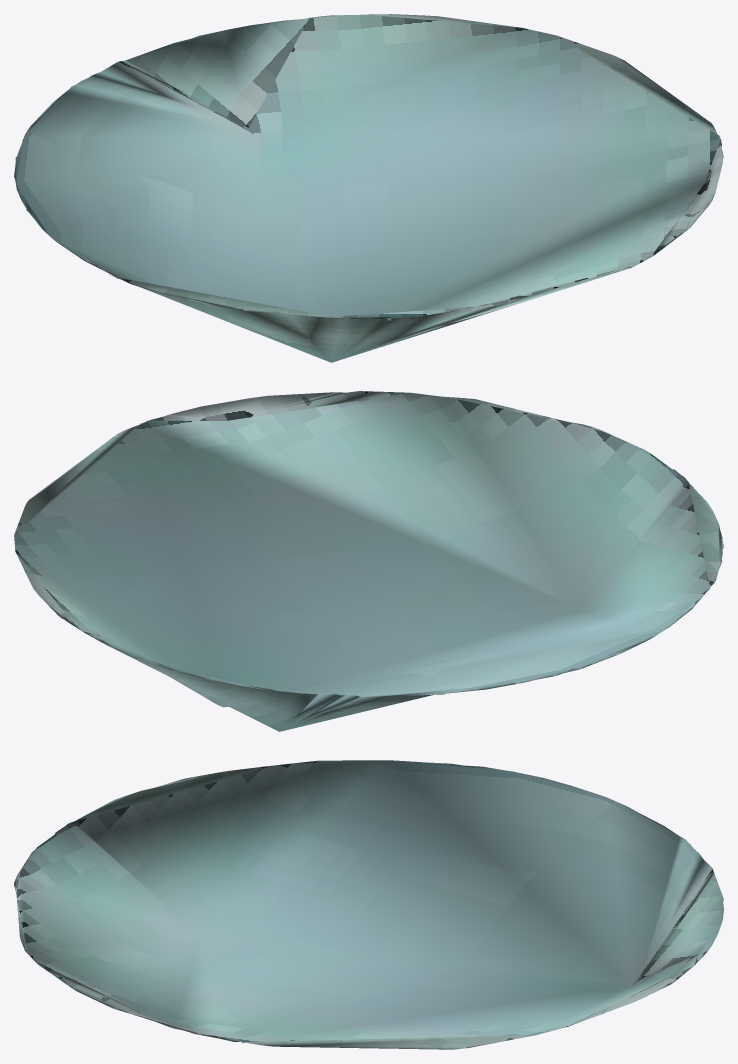
Rendered from Ecoforms_Plant_Plate_S11Turquoise-low.glb.
3 renders of one model, top to bottom at view 1: azimuth 30°, elevation 25°; view 2: azimuth 150°, elevation 25°; view 3: azimuth 270°, elevation 25°, orthographic.
Visible parts, largest first — view 1: Ecoforms_Plant_Plate_S11Turquoise; view 2: Ecoforms_Plant_Plate_S11Turquoise; view 3: Ecoforms_Plant_Plate_S11Turquoise.
Part boxes in pixels (bbox=[...]): Ecoforms_Plant_Plate_S11Turquoise: bbox=[14, 14, 723, 362]; Ecoforms_Plant_Plate_S11Turquoise: bbox=[14, 391, 723, 731]; Ecoforms_Plant_Plate_S11Turquoise: bbox=[14, 760, 723, 1049].
Size of the model in its own units: 0.1163 by 0.0224 by 0.1175.
Materials: 1 (1 with a texture image).
